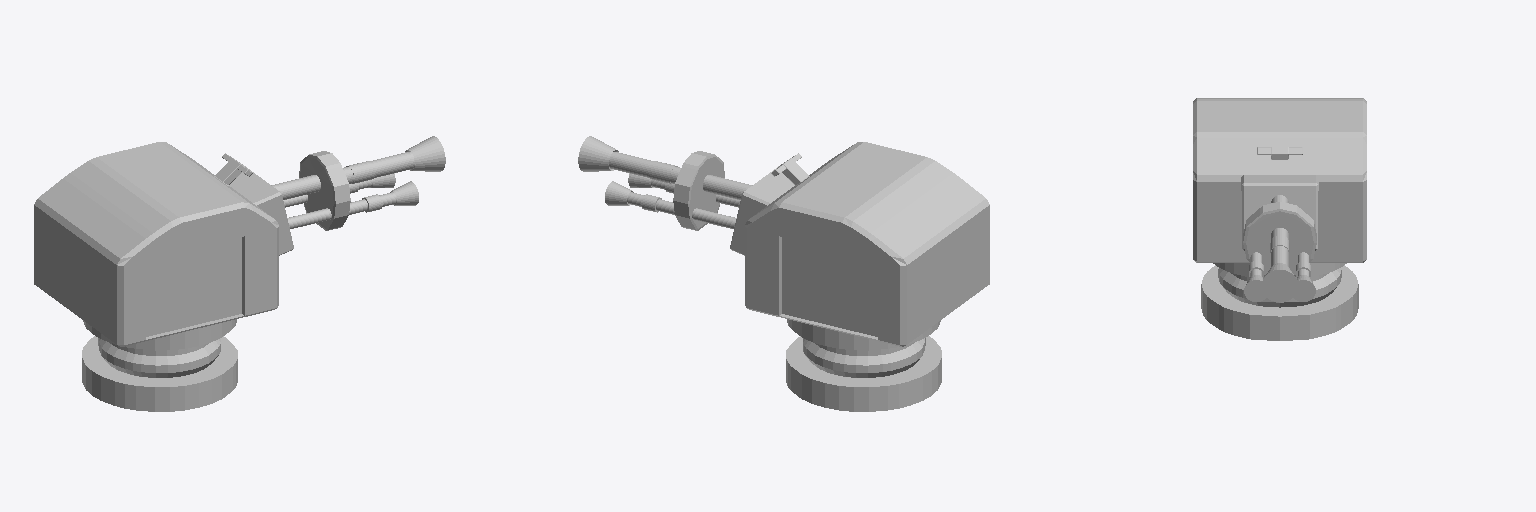
File: Turret_fixed_Hopefully.obj
The picture shows the model from 3 angles: view 1: azimuth 30°, elevation 25°; view 2: azimuth 150°, elevation 25°; view 3: azimuth 270°, elevation 25°; orthographic projection.
Parts seen in each view (by area): view 1: Turret, TurretFBXASC046001; view 2: Turret, TurretFBXASC046001; view 3: Turret, TurretFBXASC046001.
Boxes of the visible parts, <box> form: Turret: <box>34,136,445,346</box>; TurretFBXASC046001: <box>82,319,237,411</box>; Turret: <box>578,136,989,346</box>; TurretFBXASC046001: <box>786,319,941,411</box>; Turret: <box>1193,98,1366,302</box>; TurretFBXASC046001: <box>1201,263,1358,340</box>.
Bounding box in the file's own units: 106 × 55.98 × 44.56.